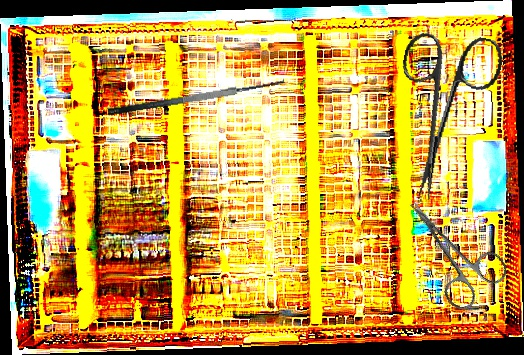Iris Scissors: (378, 23, 506, 210), (386, 179, 514, 316)
Spatula Surgical: (105, 67, 286, 117)
